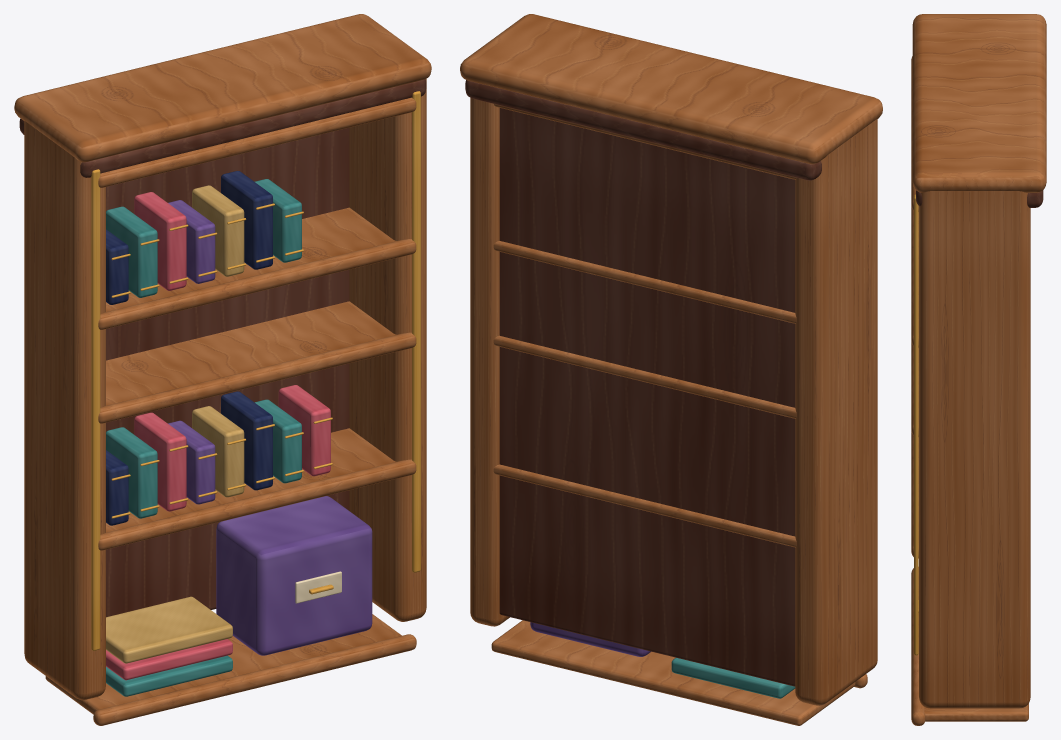
Rendered from V5_Bookcase.fbx.
The picture shows the model from 3 angles, left to right: view 1: azimuth 30°, elevation 25°; view 2: azimuth 150°, elevation 25°; view 3: azimuth 270°, elevation 25°; orthographic projection. The views are drawn at different scales.
Parts seen in each view (by area): view 1: V5_Bookcase; view 2: V5_Bookcase; view 3: V5_Bookcase.
Boxes of the visible parts, x1,y1,x2,y2 form: V5_Bookcase: [14, 14, 431, 725]; V5_Bookcase: [460, 14, 882, 725]; V5_Bookcase: [911, 14, 1046, 725].
Bounding box in the file's own units: 1.23 × 1.94 × 0.424.
Materials: 1 (1 with a texture image).
